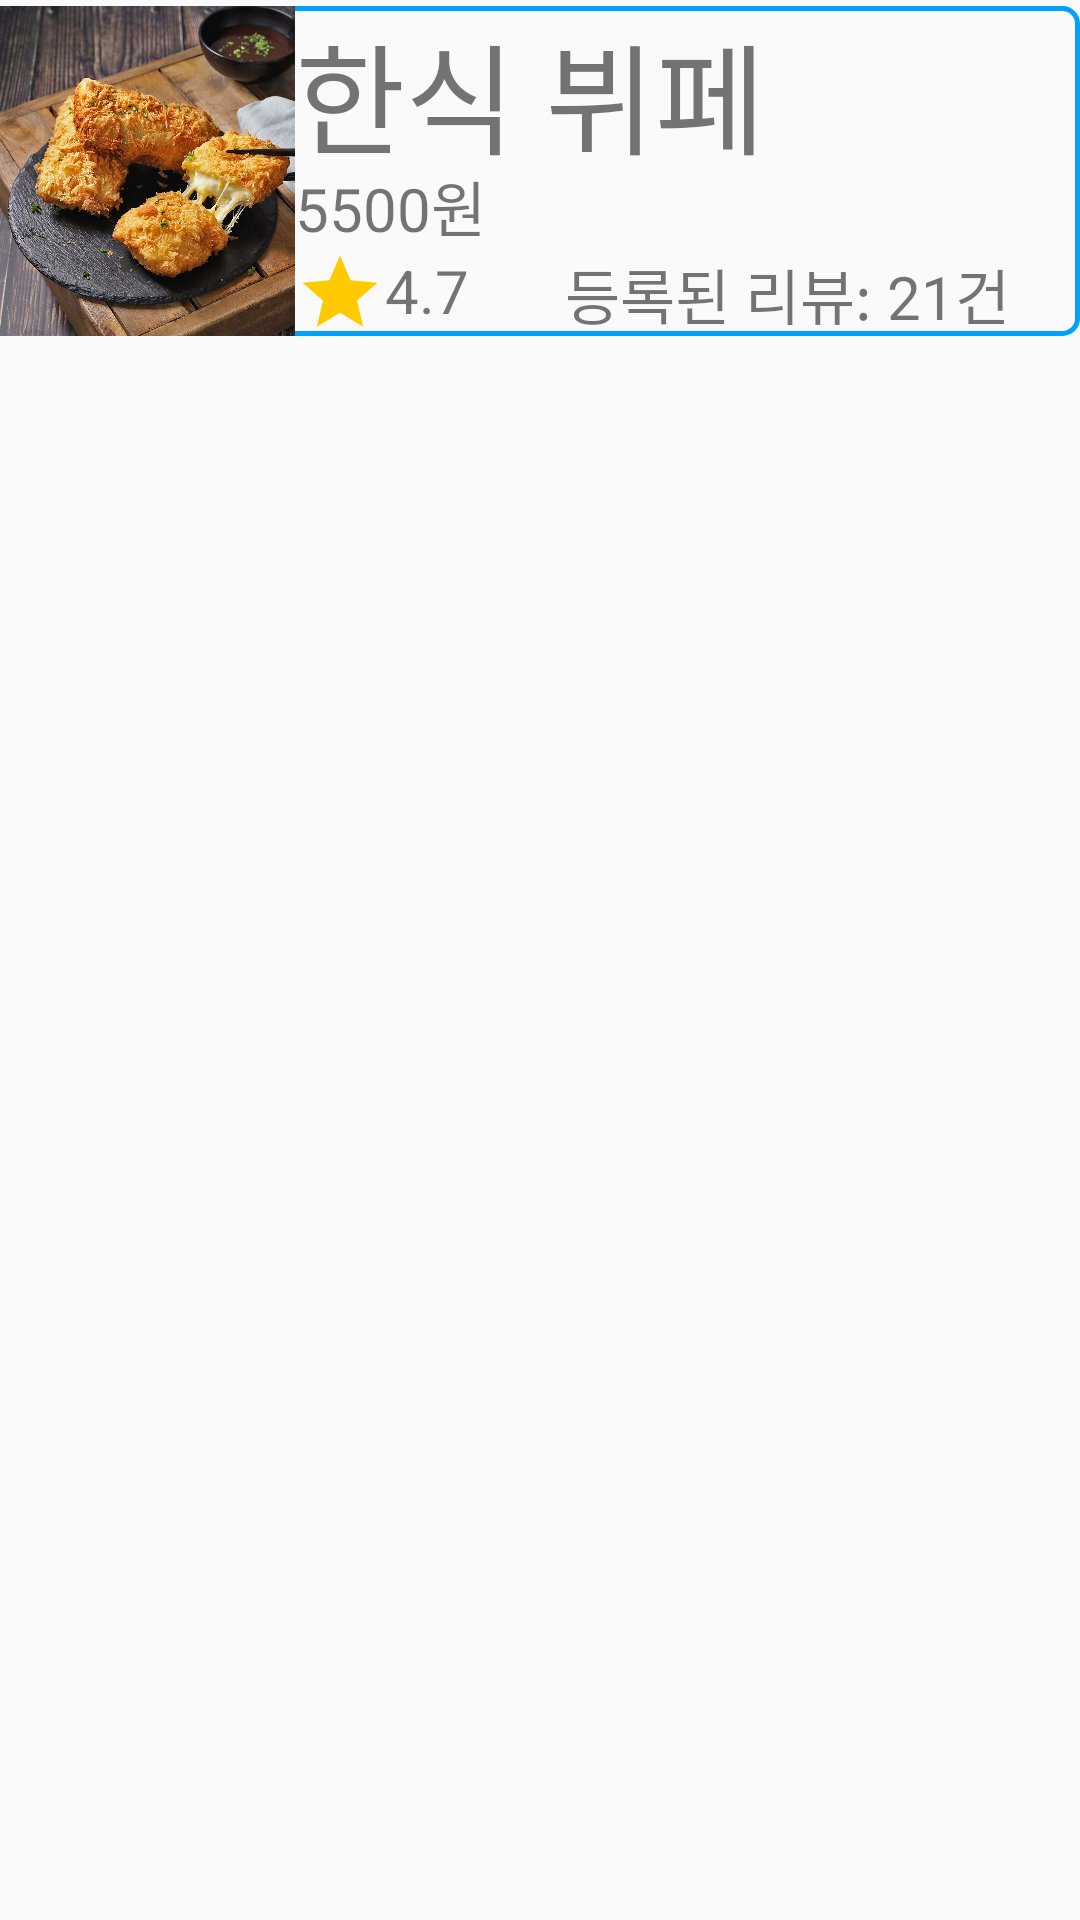

Icon bounding boxes for this 1080 x 1920 phone screenshot, format bbox(x1, y1, x2, y2):
cheese donga: bbox(0, 6, 295, 336)
